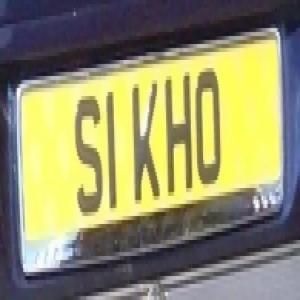Plate: (8, 16, 290, 260)
